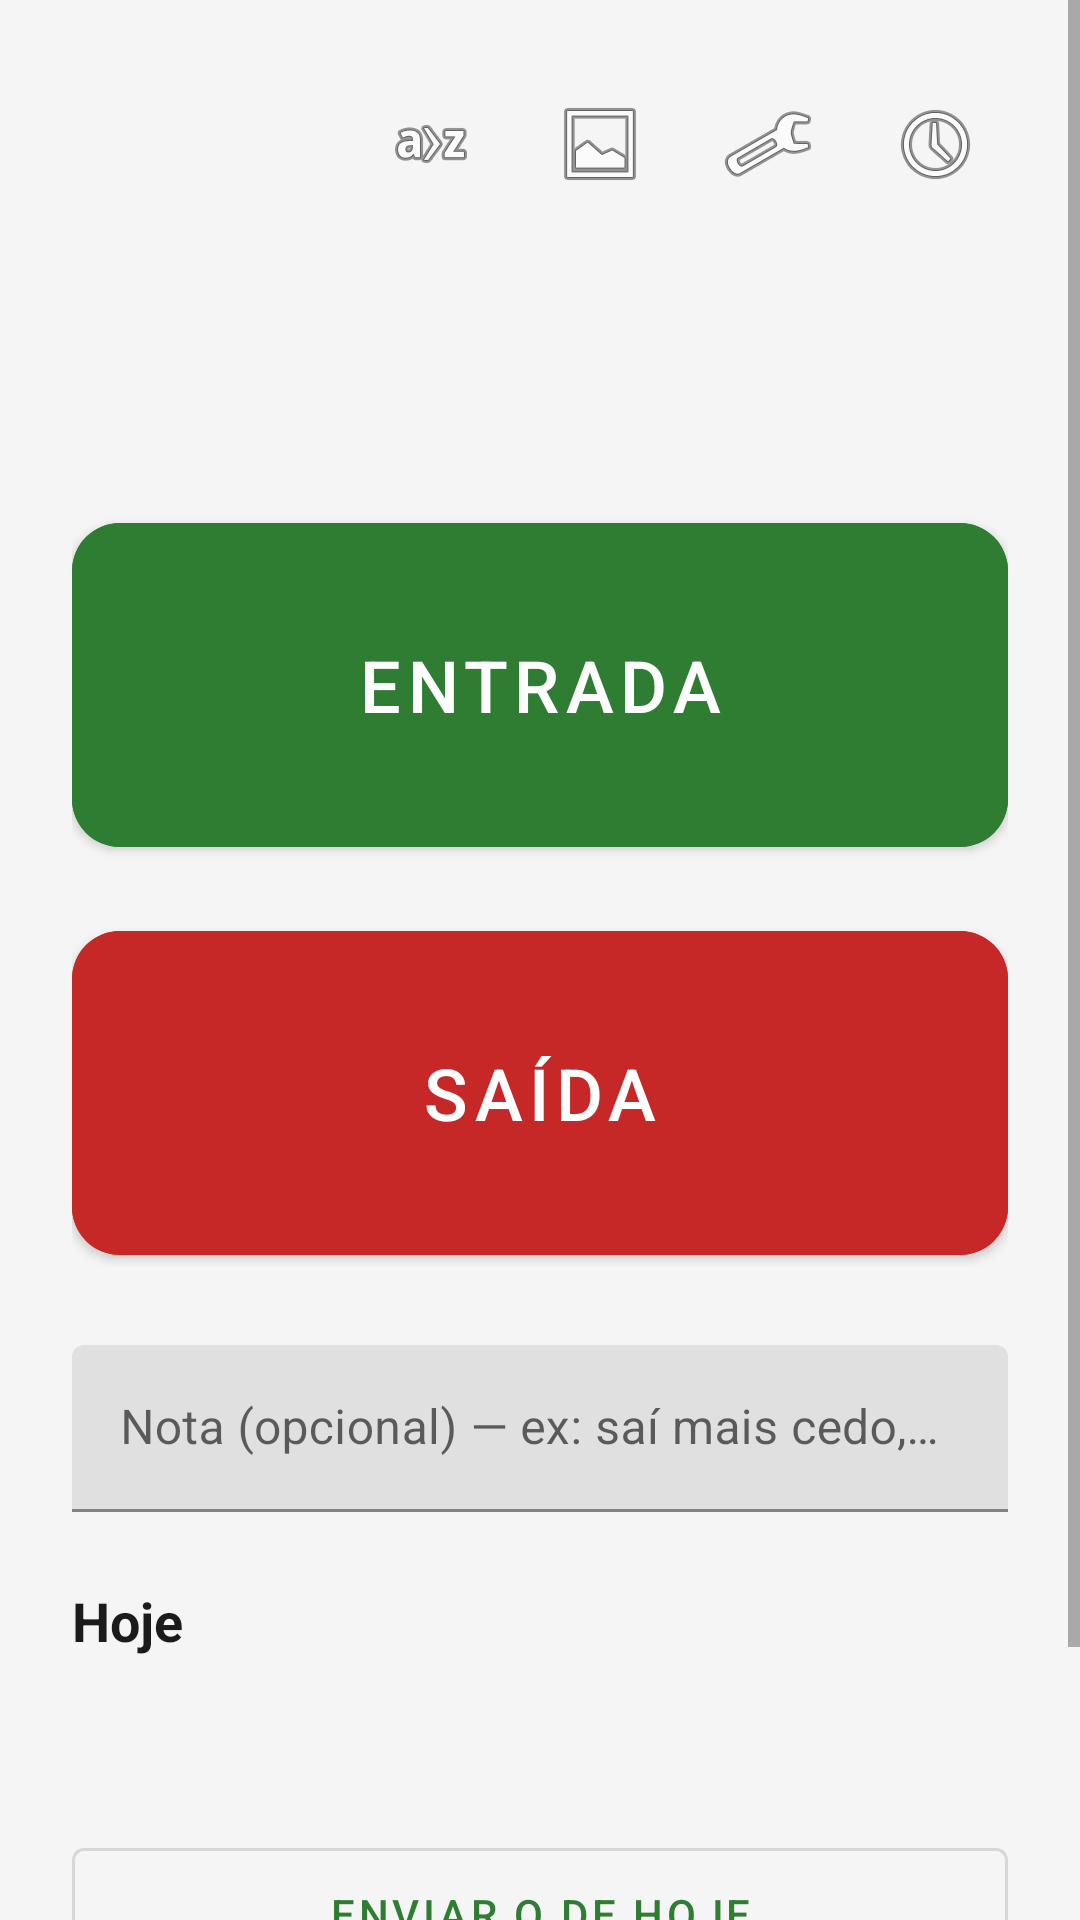

Where to tap for icons on this 1080x1920 app screen, as (x,y):
Histórico: (935,144)
Idioma: (431,144)
Temas: (600,144)
